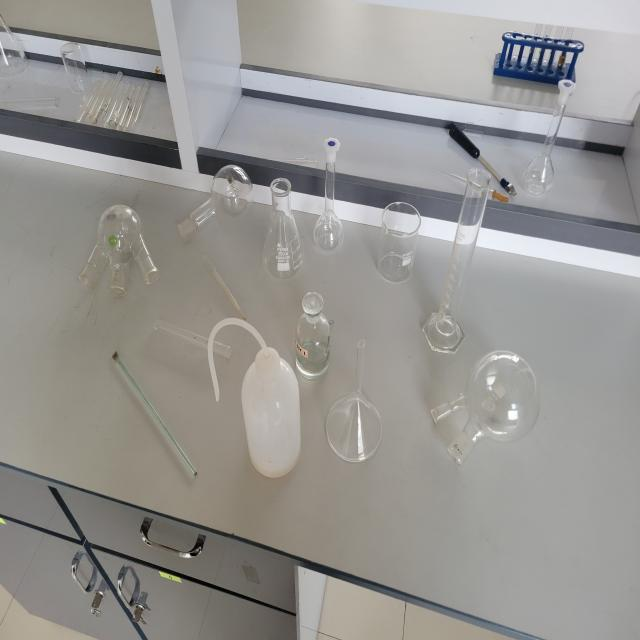Beaker: (366, 191, 438, 292)
Conical_Flask: (253, 164, 314, 294)
Funnel: (318, 324, 403, 478)
Glass_Rod: (101, 331, 211, 486)
Measuring_Cylinder: (397, 159, 511, 365)
Pipette: (199, 249, 257, 322)
Reagent_Bottle: (289, 284, 339, 390)
Round_Bottom_Flask_Borosilicate_Glass_1_Neck: (164, 144, 264, 256)
Round_Bottom_Flask_Borosilicate_Glass_2_Neck: (422, 336, 553, 490)
Round_Bottom_Flask_Borosilicate_Glass_3_Neck: (54, 189, 173, 302)
Volumetric_Flask: (520, 72, 586, 210)
